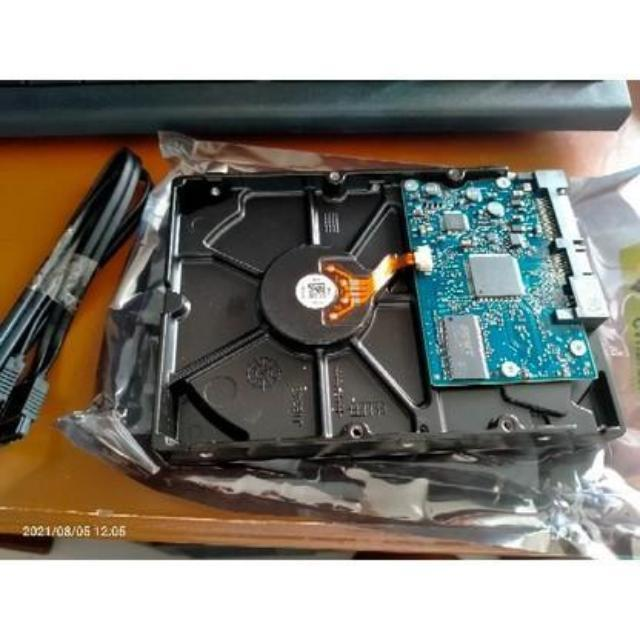DISK: (146, 152, 628, 477)
